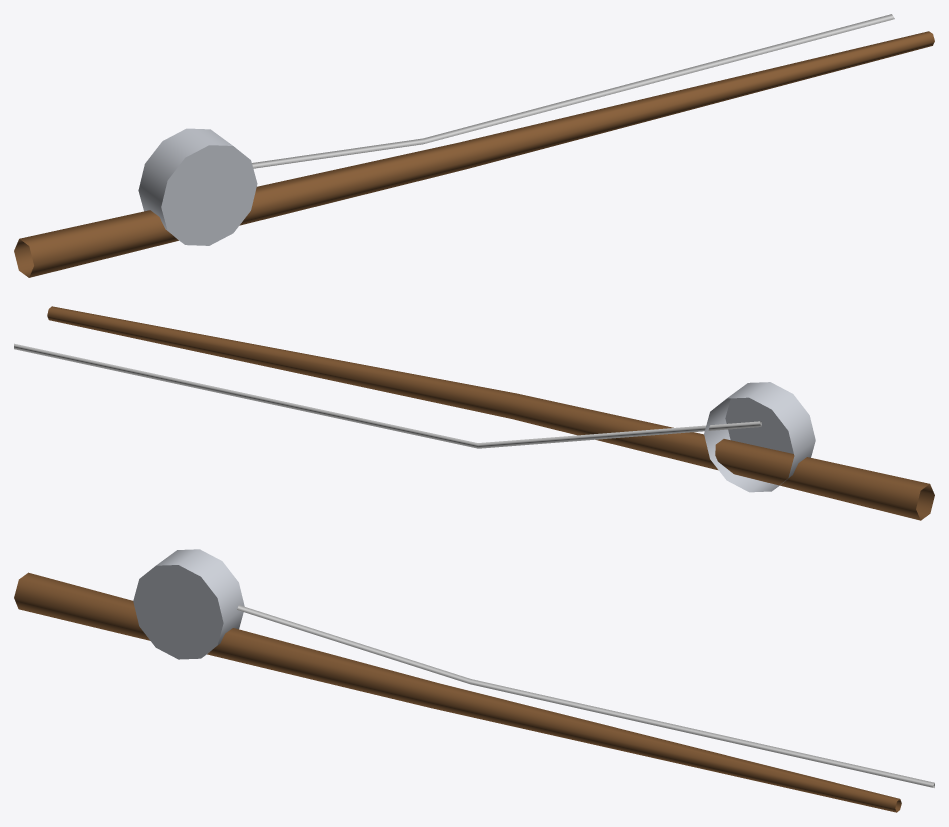
The model's file is item_tool_rod.glb.
3 views of the same model, one above another, from view 1: azimuth 30°, elevation 25°; view 2: azimuth 150°, elevation 25°; view 3: azimuth 330°, elevation 25° (orthographic). The views are drawn at different scales.
Visible parts, largest first — view 1: item_tool_rod_main, item_tool_rod_gloss; view 2: item_tool_rod_main, item_tool_rod_gloss; view 3: item_tool_rod_main, item_tool_rod_gloss.
Part boxes in pixels (bbox=[...]): item_tool_rod_main: bbox=[14, 14, 934, 277]; item_tool_rod_gloss: bbox=[138, 128, 257, 245]; item_tool_rod_main: bbox=[14, 306, 934, 520]; item_tool_rod_gloss: bbox=[704, 382, 815, 492]; item_tool_rod_main: bbox=[14, 572, 934, 812]; item_tool_rod_gloss: bbox=[133, 549, 244, 659].
Size of the model in its own units: 0.4202 by 0.0443 by 0.0487.
